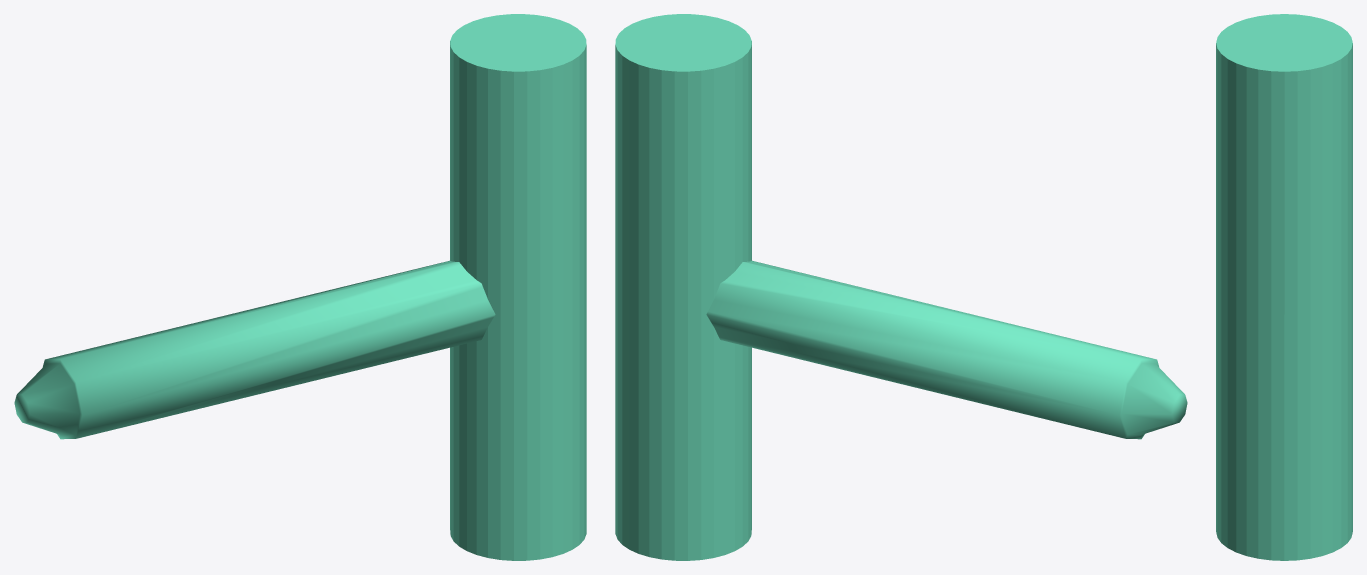
Rendered from Adenosine.fbx.
3 views of the same model, side by side, from view 1: azimuth 30°, elevation 25°; view 2: azimuth 150°, elevation 25°; view 3: azimuth 270°, elevation 25° (orthographic).
Visible parts, largest first — view 1: adenine; view 2: adenine; view 3: adenine.
Boxes of the visible parts, x1,y1,x2,y2 form: adenine: (14,14,586,560); adenine: (615,14,1187,560); adenine: (1216,14,1352,560).
Bounding box in the file's own units: 60.55 × 50.98 × 12.91.
